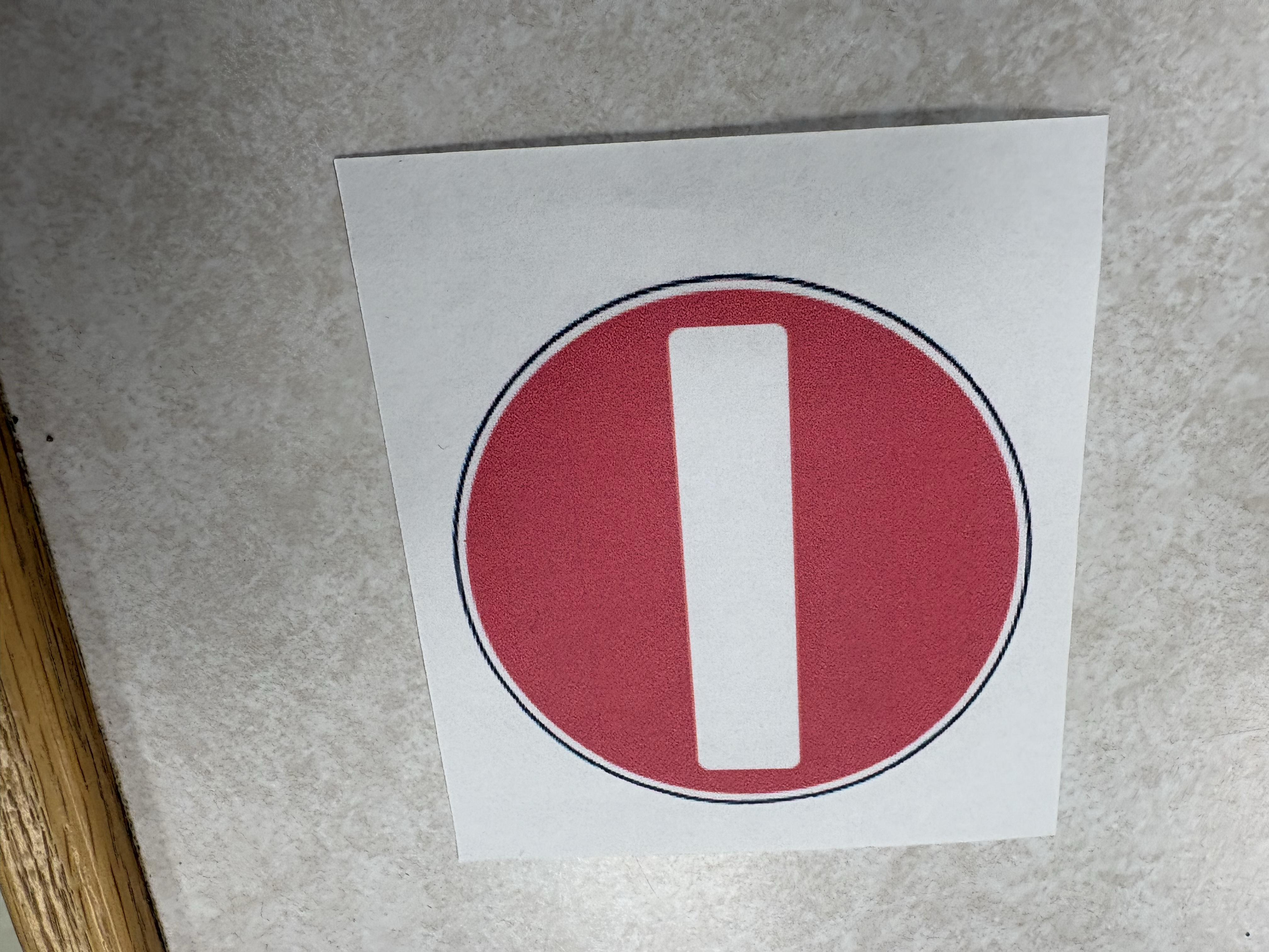No Entry: (329, 120, 1106, 864)
